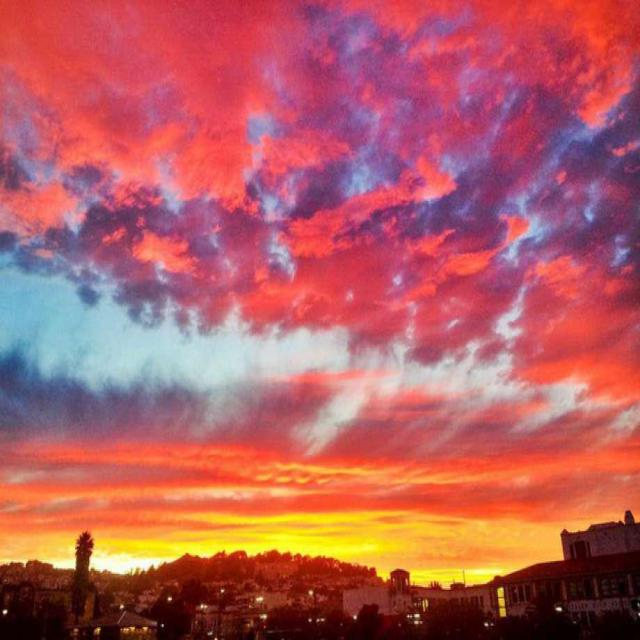other: (41, 36, 614, 384), (27, 448, 528, 592)
